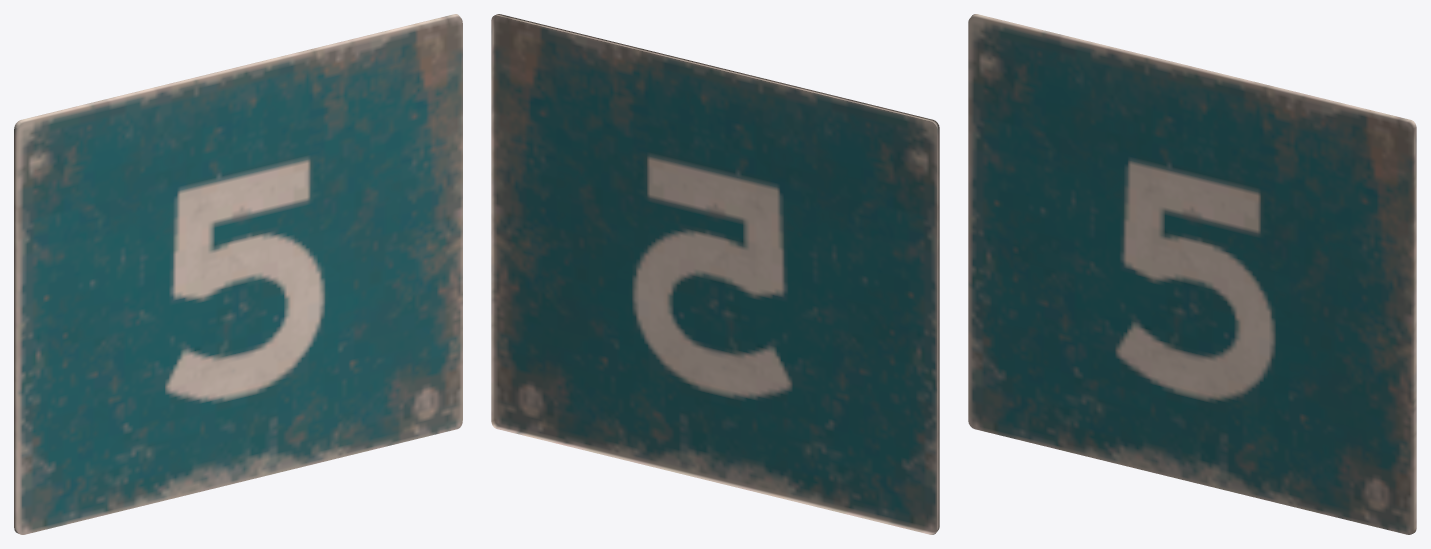
File: SM_Sign_02g.glb
The picture shows the model from 3 angles, left to right: view 1: azimuth 30°, elevation 25°; view 2: azimuth 150°, elevation 25°; view 3: azimuth 330°, elevation 25°; orthographic projection.
Parts seen in each view (by area): view 1: SM_Sign_02g; view 2: SM_Sign_02g; view 3: SM_Sign_02g.
Part boxes in pixels (x1,y1,x2,y2): SM_Sign_02g: (14,14,462,534); SM_Sign_02g: (491,14,939,534); SM_Sign_02g: (968,14,1416,534).
Bounding box in the file's own units: 0.1682 × 0.149 × 0.00195.
Materials: 1 (1 with a texture image).
